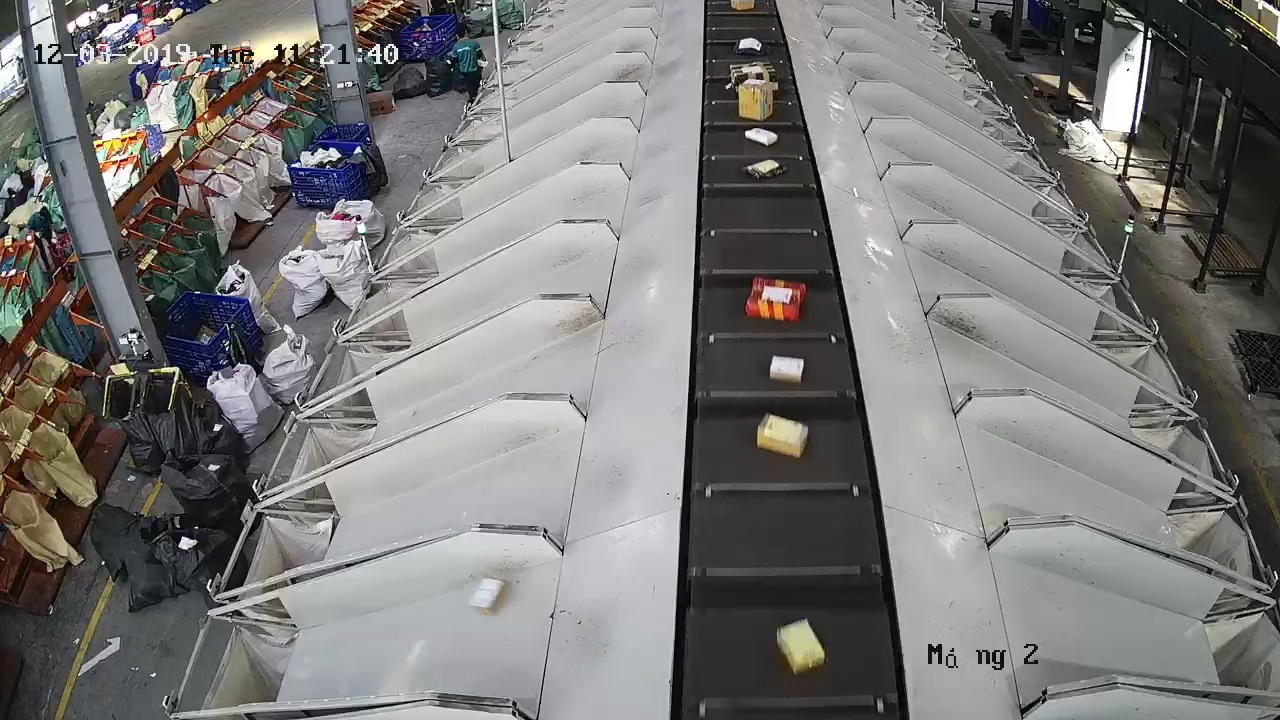parcel: (744, 274, 808, 324), (775, 617, 827, 677), (755, 411, 809, 459), (469, 575, 508, 617), (768, 353, 806, 384), (741, 157, 788, 181), (744, 126, 780, 149)
